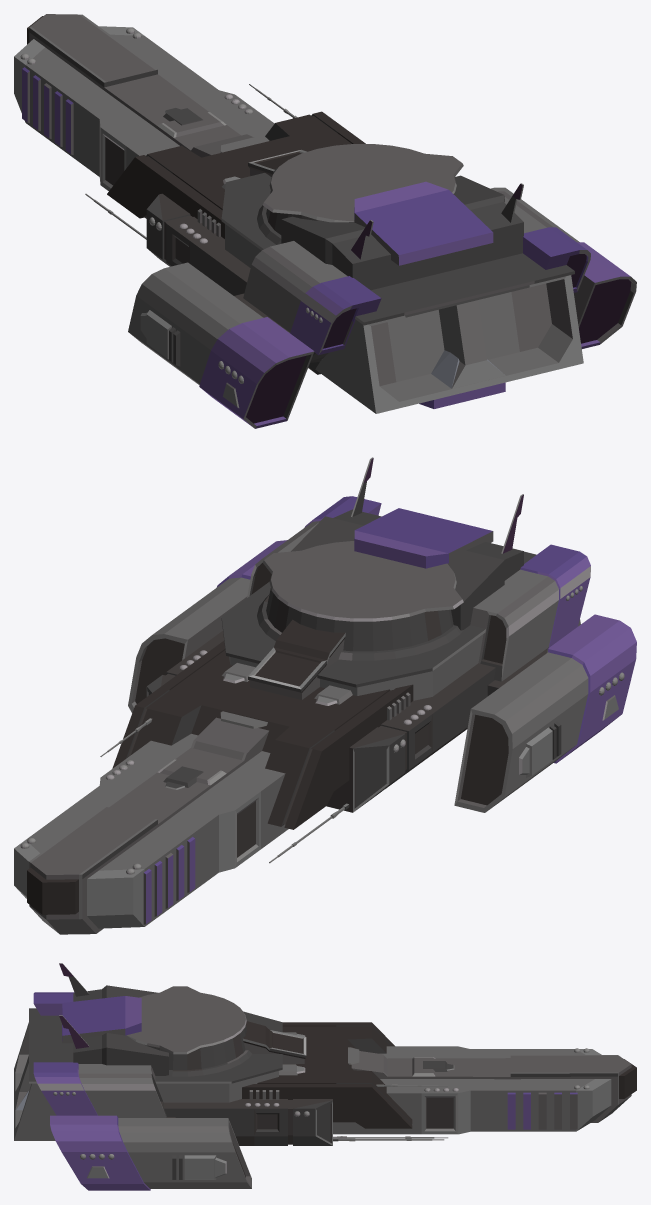
Rendered from insurgent.glb.
3 renders of one model, top to bottom at view 1: azimuth 30°, elevation 25°; view 2: azimuth 150°, elevation 25°; view 3: azimuth 270°, elevation 25°, orthographic. The views are drawn at different scales.
Size of the model in its own units: 2.78 by 1.44 by 5.48.
